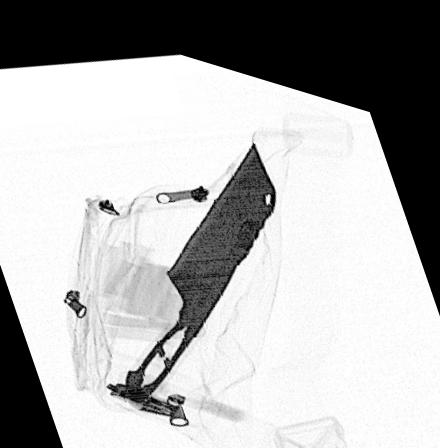Knife: (123, 124, 279, 394)
